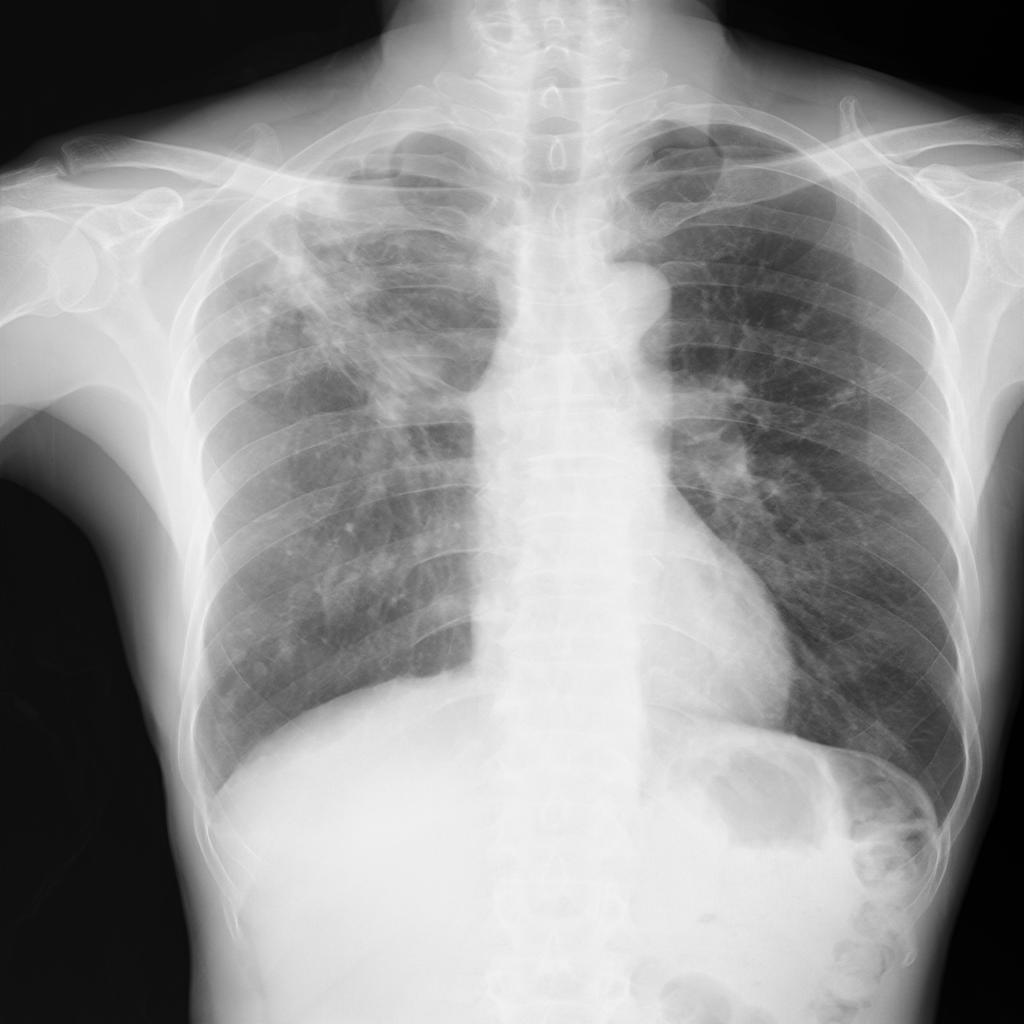Nodule: (224, 646, 254, 664), (249, 661, 273, 677), (240, 627, 259, 638)
